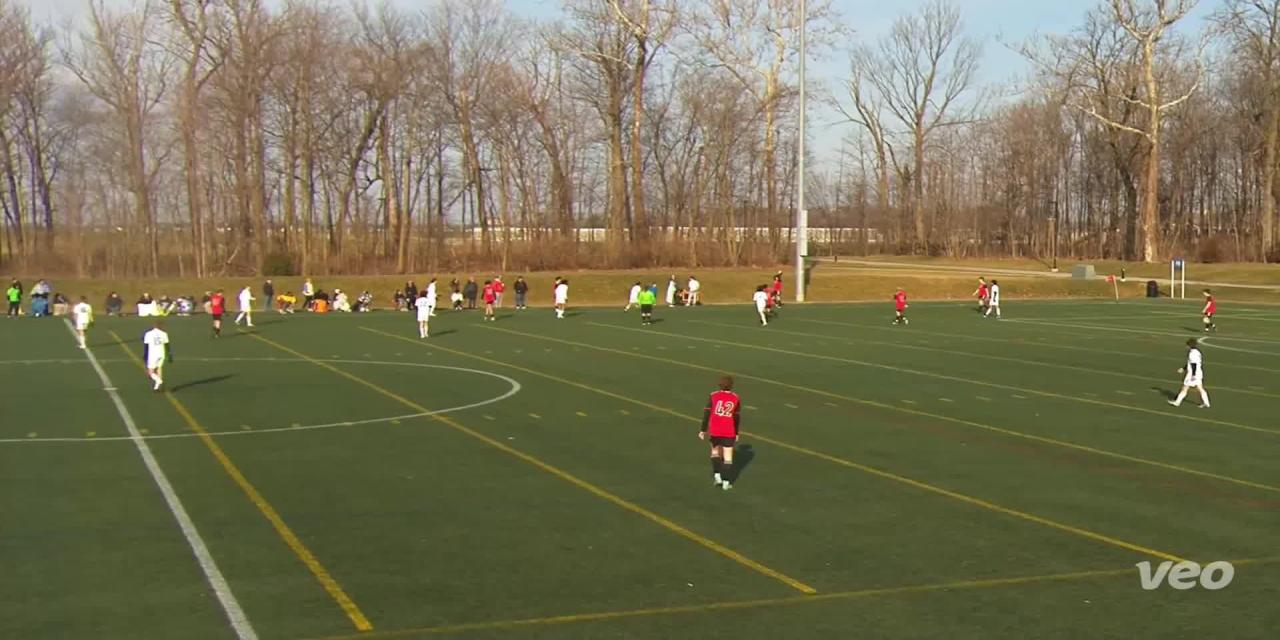sports ball: (776, 265, 788, 278)
